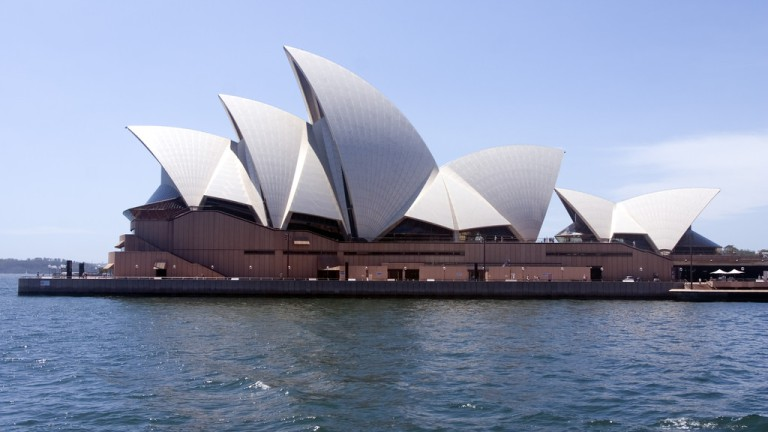opera house: (84, 23, 733, 275)
